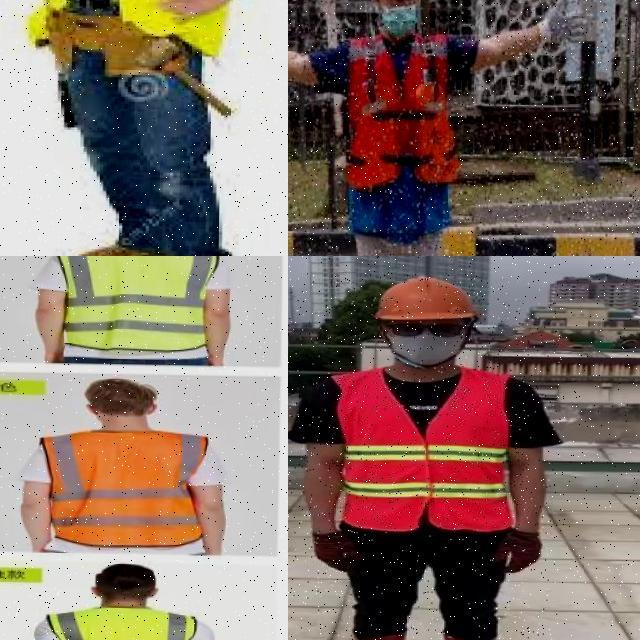boots: (75, 241, 171, 256)
helmet: (370, 274, 480, 324)
vest: (334, 19, 482, 245), (326, 368, 518, 532), (36, 430, 222, 547), (52, 256, 223, 351), (26, 0, 240, 58), (45, 609, 206, 640)
